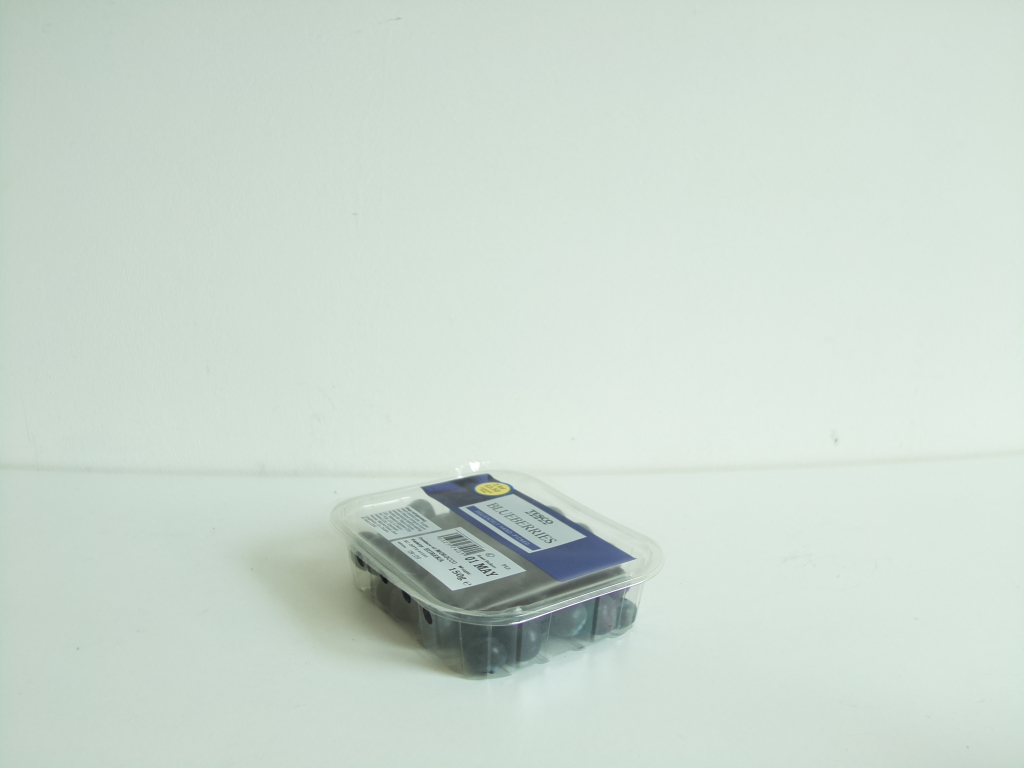soft-fruit: (336, 466, 656, 680)
